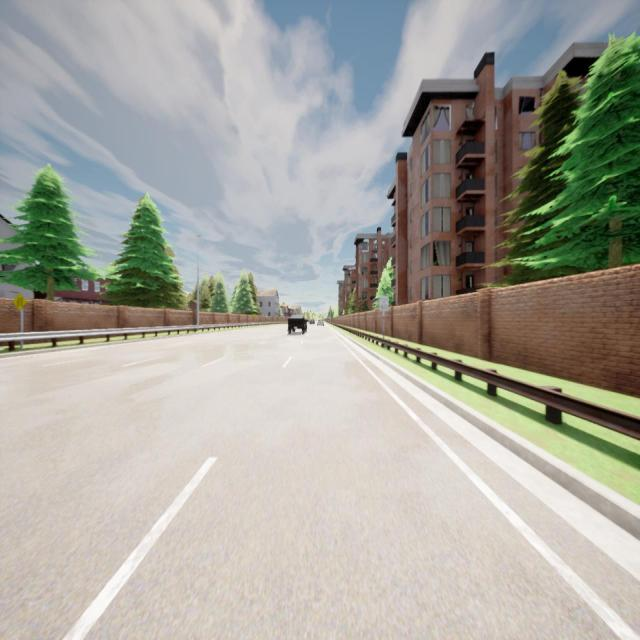Traffic_Signs: (13, 292, 26, 311), (380, 297, 388, 309), (253, 314, 256, 319)
Vehicle: (287, 314, 308, 334), (318, 319, 324, 327), (309, 318, 315, 324)
